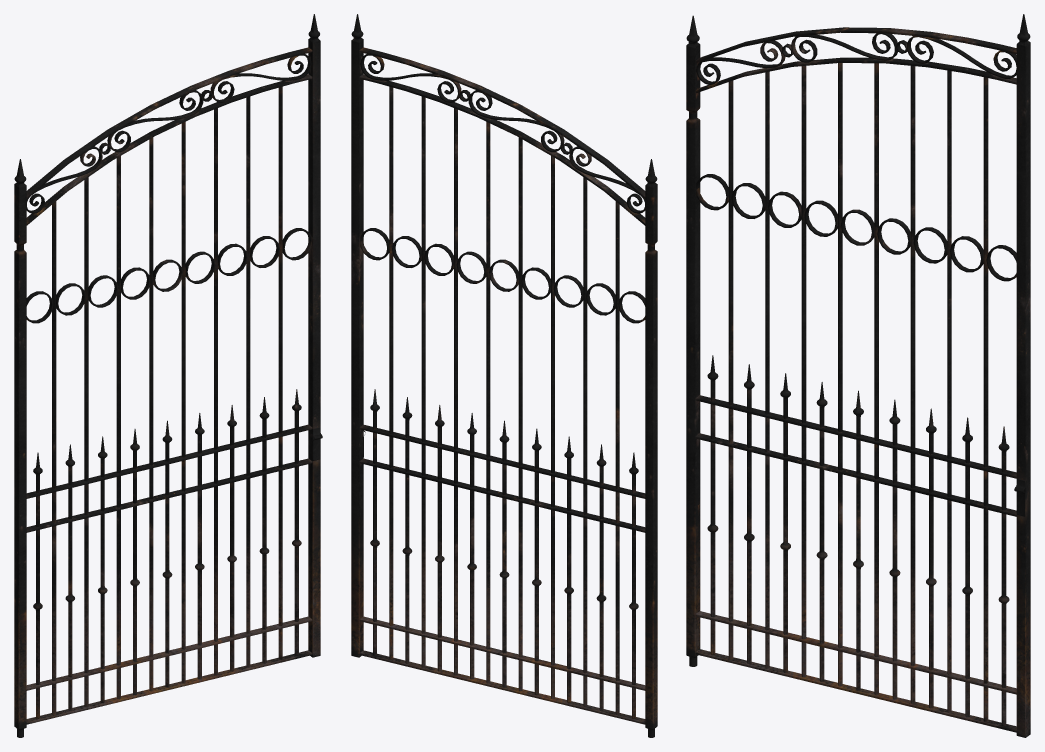
The model's file is large_iron_gate-leaf-left-v01.glb.
The picture shows the model from 3 angles, left to right: view 1: azimuth 30°, elevation 25°; view 2: azimuth 150°, elevation 25°; view 3: azimuth 330°, elevation 25°; orthographic projection. The views are drawn at different scales.
Parts seen in each view (by area): view 1: large_iron_gate_left_door; view 2: large_iron_gate_left_door; view 3: large_iron_gate_left_door.
Part boxes in pixels (bbox=[...]): large_iron_gate_left_door: bbox=[14, 14, 322, 737]; large_iron_gate_left_door: bbox=[351, 14, 657, 737]; large_iron_gate_left_door: bbox=[686, 14, 1030, 737].
Size of the model in its own units: 1.43 by 2.93 by 0.0609.
1 material, 1 textured.
